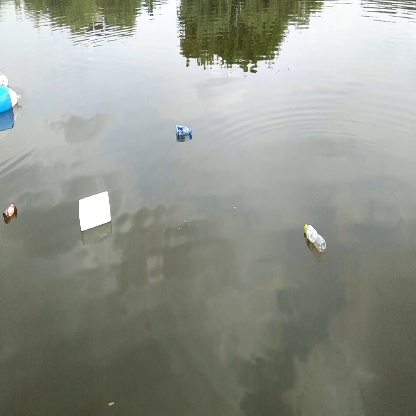bottle: (301, 222, 331, 260), (1, 201, 20, 224), (174, 122, 196, 138)
plastic-garbage: (74, 191, 114, 233)
